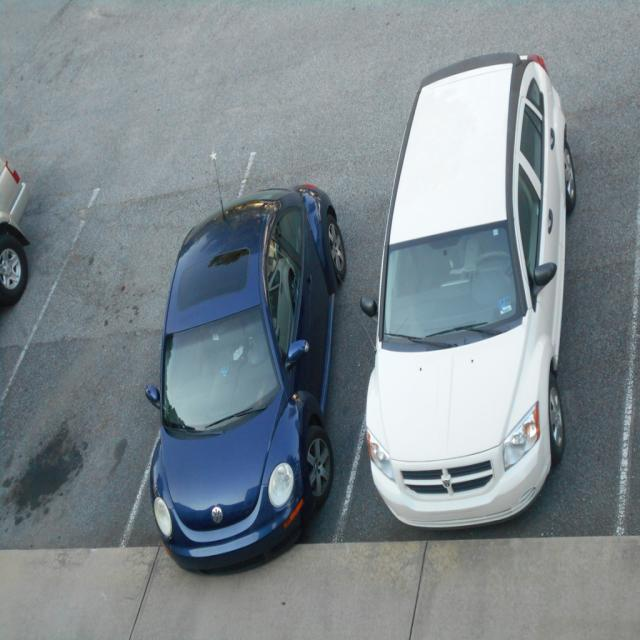car: (336, 49, 578, 528), (145, 169, 354, 579)
